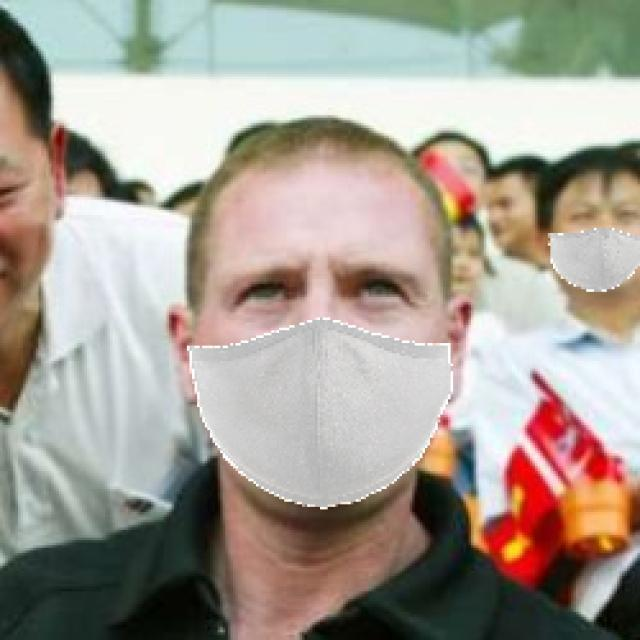cloth: (182, 149, 451, 515), (543, 162, 640, 292)
